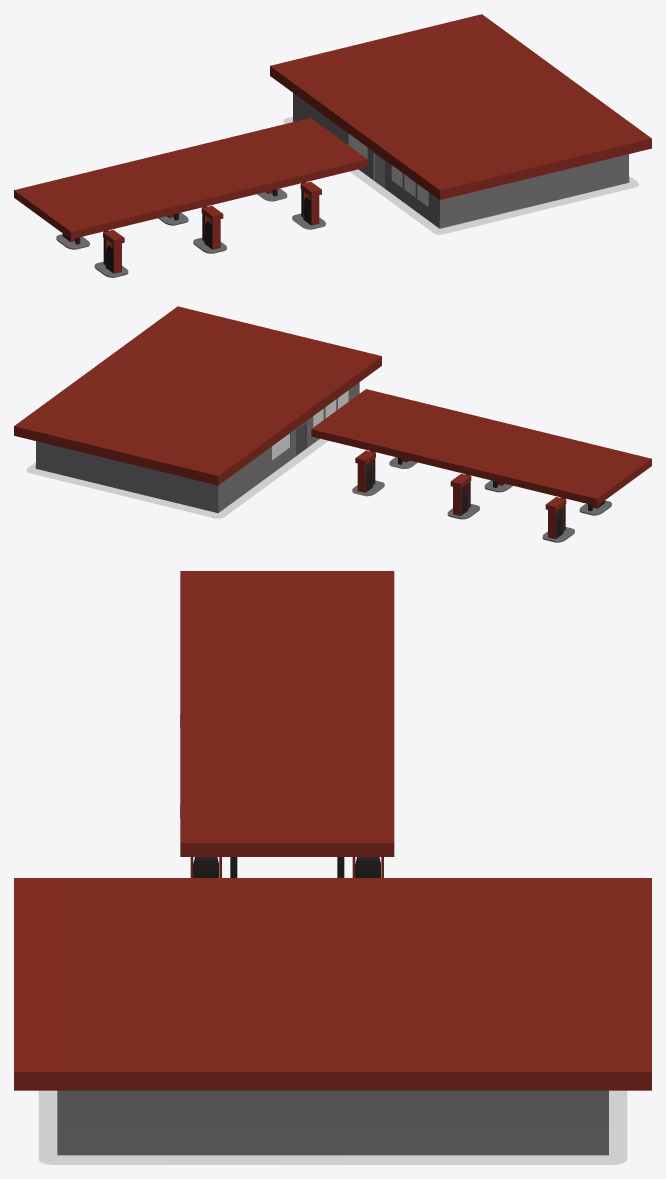
Rendered from Gas Station Prototype.fbx.
The picture shows the model from 3 angles, top to bottom: view 1: azimuth 30°, elevation 25°; view 2: azimuth 150°, elevation 25°; view 3: azimuth 270°, elevation 25°; orthographic projection. The views are drawn at different scales.
Visible parts, largest first — view 1: Convenience Store, Roof, Cube.072, Pump C, Pump B, Pump A, Curb C, Curb A, Curb B; view 2: Convenience Store, Roof, Cube.072, Pump A, Pump C, Pump B, Curb C, Curb A, Curb B; view 3: Convenience Store, Roof, Cube.072, Pump A.
Boxes of the visible parts, x1,y1,x2,y2 form: Convenience Store: (270,14,651,228); Roof: (14,118,367,239); Cube.072: (283,117,638,234); Pump C: (62,229,124,273); Pump B: (167,205,223,249); Pump A: (266,181,321,225); Curb C: (56,234,128,277); Curb A: (257,188,325,229); Curb B: (158,212,226,253); Convenience Store: (14,306,381,512); Roof: (311,389,651,505); Cube.072: (26,438,328,518); Pump A: (355,450,409,492); Pump C: (545,497,605,539); Pump B: (450,473,504,515); Curb C: (542,500,611,542); Curb A: (352,457,417,496); Curb B: (447,480,512,519); Convenience Store: (14,878,651,1155); Roof: (180,571,394,856); Cube.072: (38,1090,627,1164); Pump A: (190,857,383,877).
Bounding box in the file's own units: 4347 × 437 × 2385.
